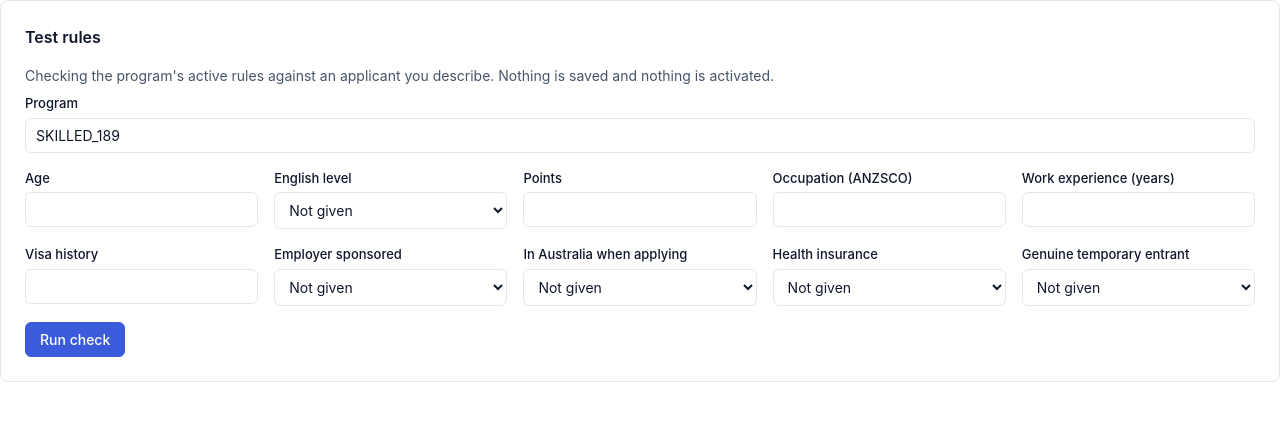
Test: RuleTestPanel › says what went wrong instead of showing a stale report
This screenshot has width=1280, height=425.
Click the button "Run check" at (75, 339), box [25,322,125,356]
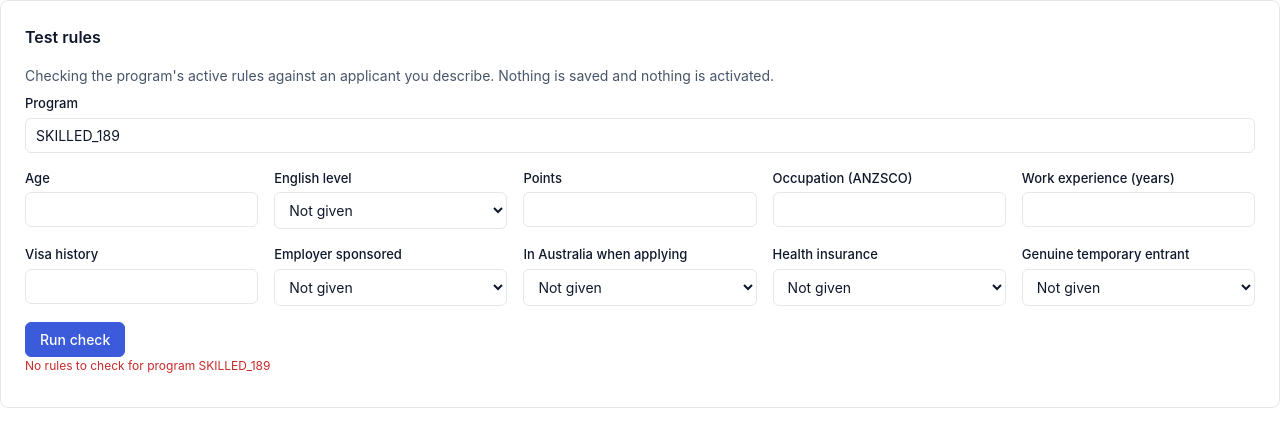
Result: the text "No rules to check for program SKILLED_189" is shown at [25,358,270,372]
